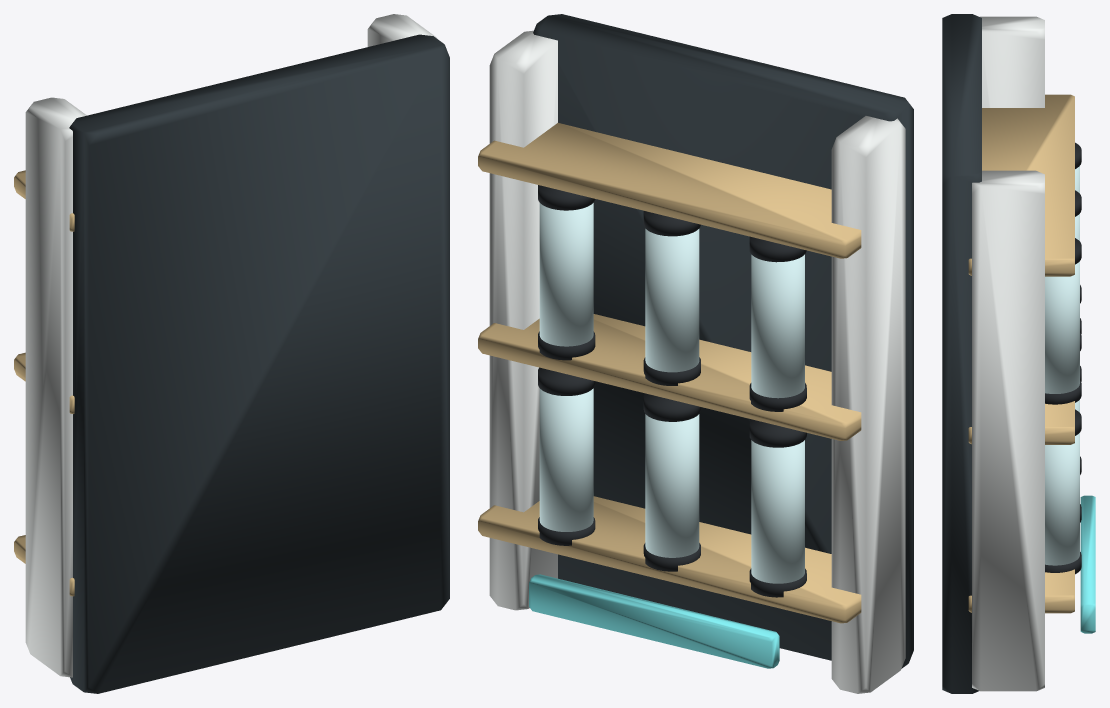
The model's file is room_l5_v4_sample_canister_rack.glb.
The picture shows the model from 3 angles, left to right: view 1: azimuth 30°, elevation 25°; view 2: azimuth 150°, elevation 25°; view 3: azimuth 270°, elevation 25°; orthographic projection. The views are drawn at different scales.
Visible parts, largest first — view 1: black_rear_frame, side_ceramic_upright_-0.55, side_ceramic_upright_0.55; view 2: black_rear_frame, side_ceramic_upright_-0.55, side_ceramic_upright_0.55, brass_shelf_rail_1.44, brass_shelf_rail_0.88, brass_shelf_rail_0.32, front_cyan_status_nameplate, cyan_sample_tube_1.15_0.34, cyan_sample_tube_1.15_0.0, cyan_sample_tube_0.58_0.0, cyan_sample_tube_0.58_0.34, cyan_sample_tube_0.58_-0.34 (+13 smaller); view 3: side_ceramic_upright_0.55, black_rear_frame, brass_shelf_rail_1.44, side_ceramic_upright_-0.55, cyan_sample_tube_0.58_0.34, cyan_sample_tube_1.15_0.34, front_cyan_status_nameplate, brass_shelf_rail_0.32, brass_shelf_rail_0.88, black_tube_cap_1.15_0.34_bottom, black_tube_cap_0.58_0.34_bottom.
Boxes of the visible parts, x1,y1,x2,y2 form: black_rear_frame: (69, 34, 449, 693); side_ceramic_upright_-0.55: (25, 97, 86, 677); side_ceramic_upright_0.55: (367, 14, 436, 46); black_rear_frame: (533, 14, 913, 668); side_ceramic_upright_-0.55: (831, 116, 905, 693); side_ceramic_upright_0.55: (489, 30, 557, 610); brass_shelf_rail_1.44: (478, 123, 861, 258); brass_shelf_rail_0.88: (478, 314, 861, 440); brass_shelf_rail_0.32: (478, 496, 861, 623); front_cyan_status_nameplate: (529, 574, 779, 668); cyan_sample_tube_1.15_0.34: (539, 203, 593, 346); cyan_sample_tube_1.15_0.0: (645, 228, 699, 372); cyan_sample_tube_0.58_0.0: (645, 414, 699, 557); cyan_sample_tube_0.58_0.34: (539, 388, 593, 531); cyan_sample_tube_0.58_-0.34: (751, 440, 804, 583); side_ceramic_upright_0.55: (972, 170, 1044, 691); black_rear_frame: (942, 14, 981, 693); brass_shelf_rail_1.44: (968, 94, 1074, 276); side_ceramic_upright_-0.55: (980, 16, 1044, 107); cyan_sample_tube_0.58_0.34: (1045, 433, 1079, 565); cyan_sample_tube_1.15_0.34: (1045, 261, 1079, 393); front_cyan_status_nameplate: (1080, 495, 1095, 633); brass_shelf_rail_0.32: (968, 569, 1074, 613); brass_shelf_rail_0.88: (968, 401, 1074, 444); black_tube_cap_1.15_0.34_bottom: (1045, 380, 1081, 404); black_tube_cap_0.58_0.34_bottom: (1045, 552, 1081, 574).
Size of the model in its own units: 1.21 by 1.72 by 0.4625.
